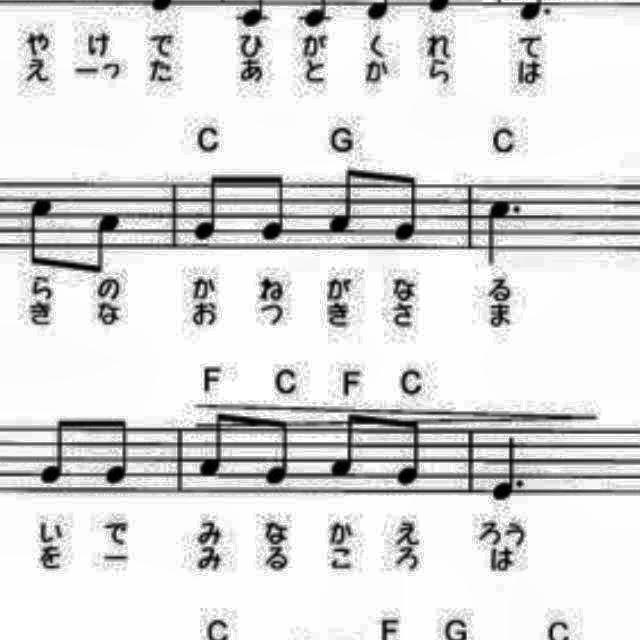Eighth-note: (34, 408, 82, 492), (326, 405, 374, 485), (322, 164, 370, 244), (388, 166, 432, 250), (188, 168, 234, 248), (255, 167, 298, 249), (391, 412, 434, 494), (192, 404, 236, 484), (100, 410, 140, 494), (260, 411, 300, 493), (18, 190, 58, 272), (82, 206, 126, 278)
Quarter-dot: (484, 191, 528, 271), (490, 432, 534, 504)
